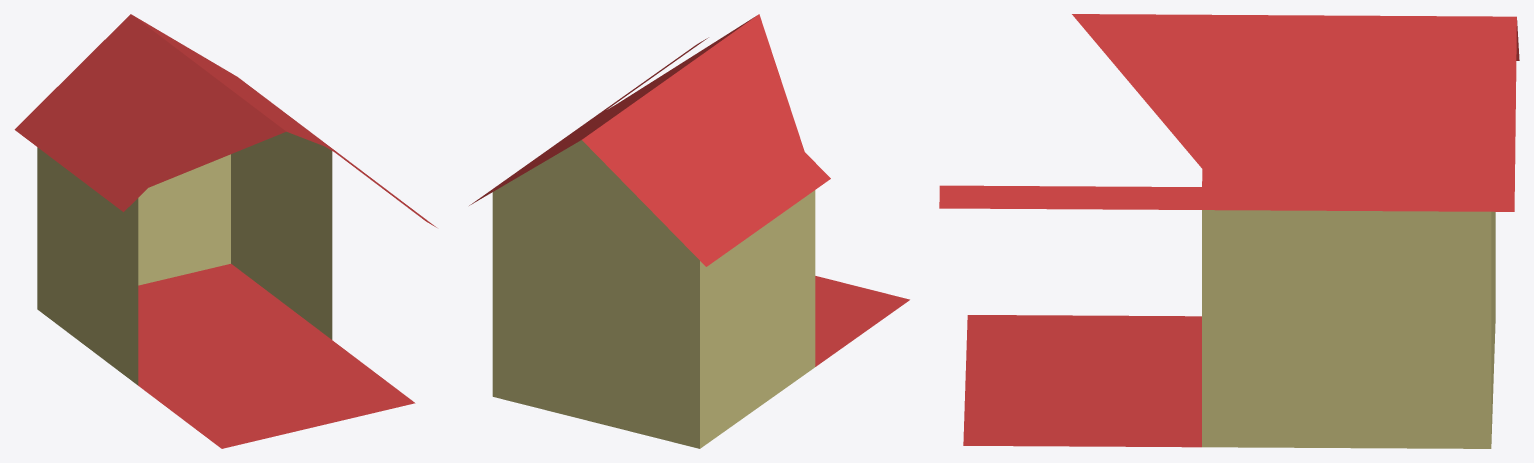
3 renders of one model, left to right at view 1: azimuth 30°, elevation 25°; view 2: azimuth 150°, elevation 25°; view 3: azimuth 270°, elevation 25°, orthographic. The views are drawn at different scales.
Bounding box in the file's own units: 7.66 × 12.29 × 8.65.
